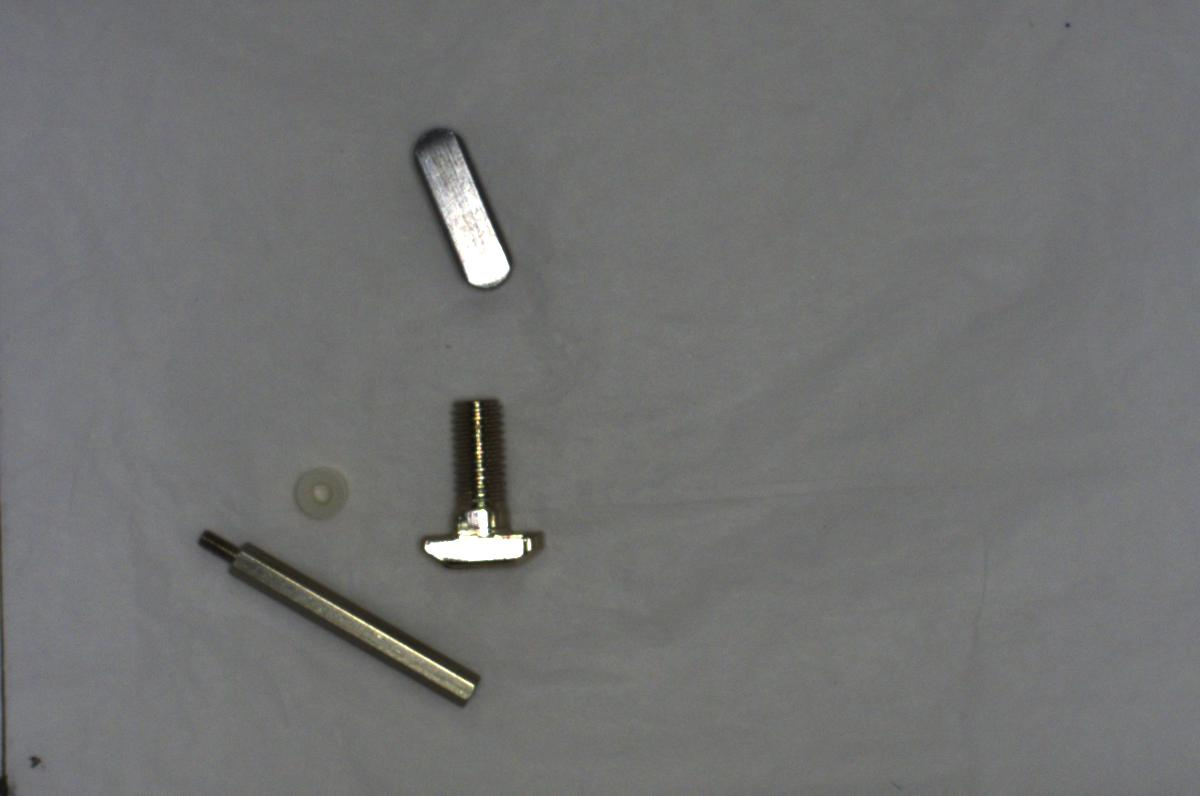Hexagonal steel column: (190, 509, 492, 715)
Keybar: (411, 116, 519, 295)
Plastic cushion pillar: (280, 461, 354, 521)
T-shaped screw: (410, 385, 550, 581)
